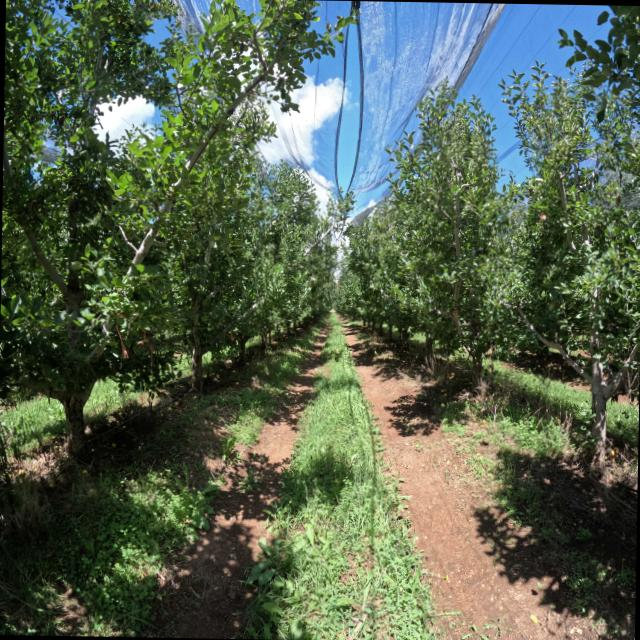-FireBlight-: (229, 332, 234, 340)
